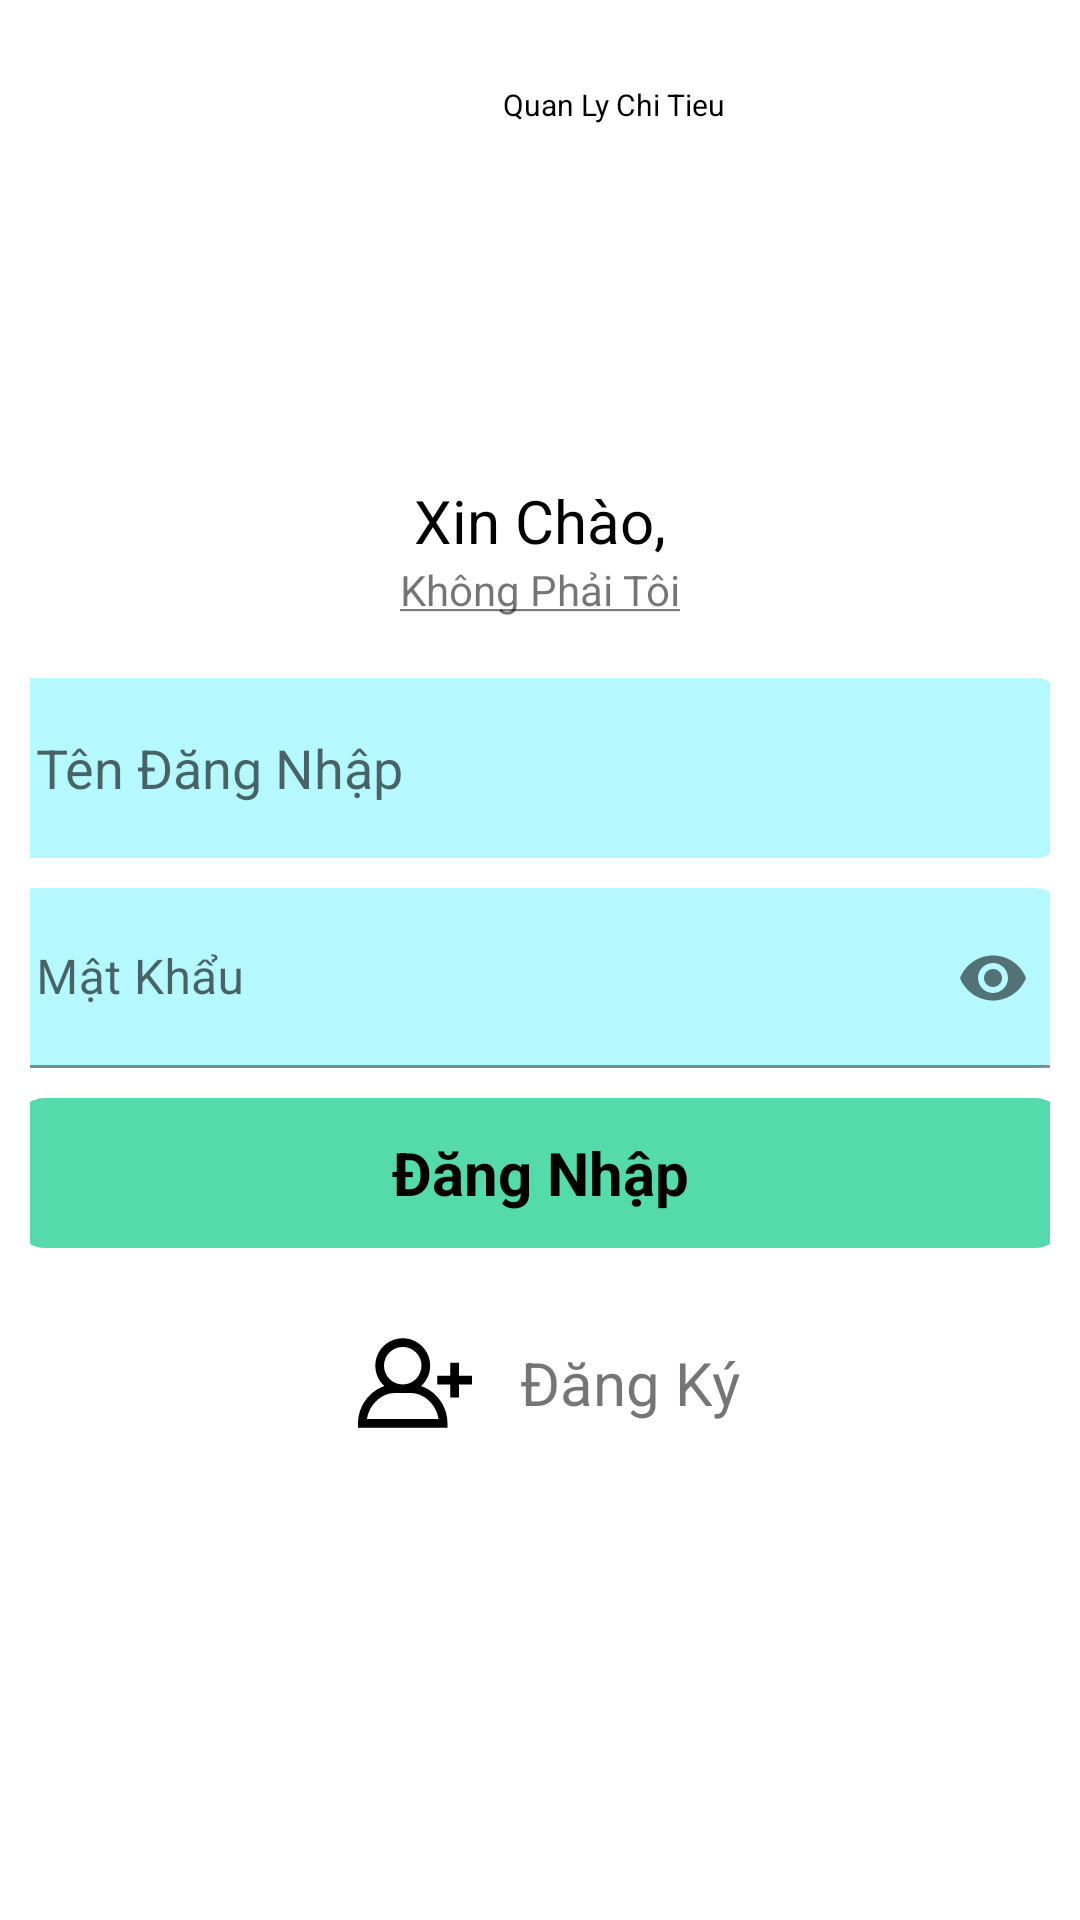

Icons on this 1080 x 1920 Android screen, each with the point to tap as (x,y):
add user: (415,1383)
